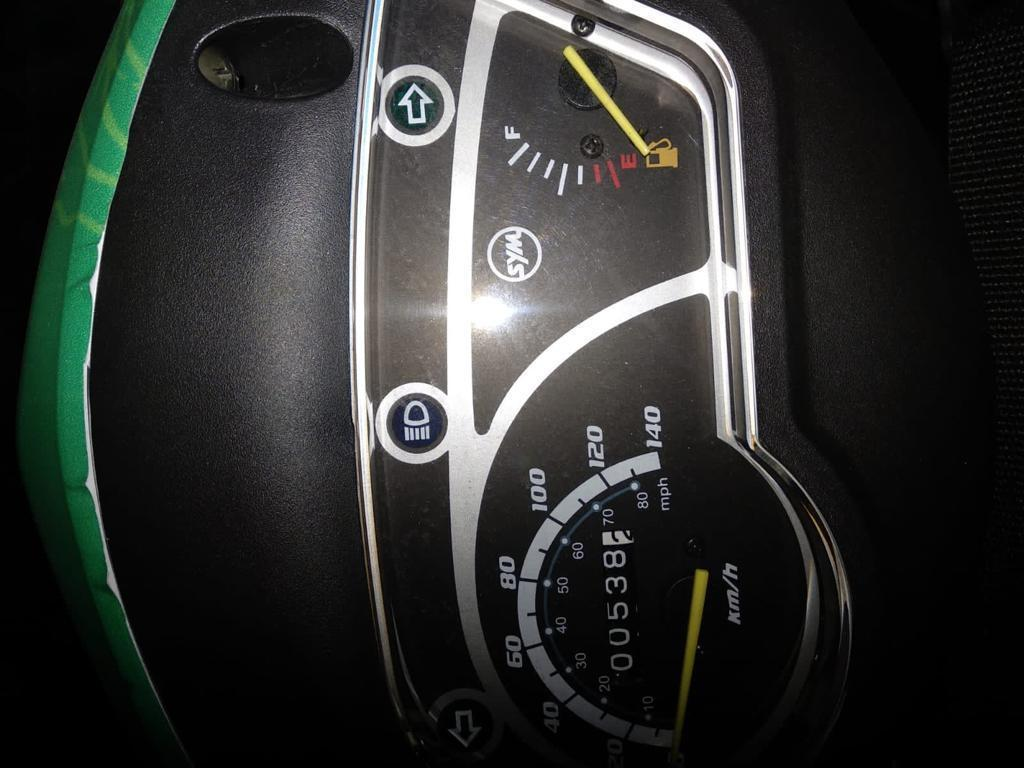0: (606, 627, 633, 646), (609, 654, 633, 672)
2: (610, 527, 635, 542)
3: (603, 574, 633, 596)
5: (604, 600, 631, 620)
8: (601, 547, 628, 568)
odometer: (595, 526, 651, 675)
